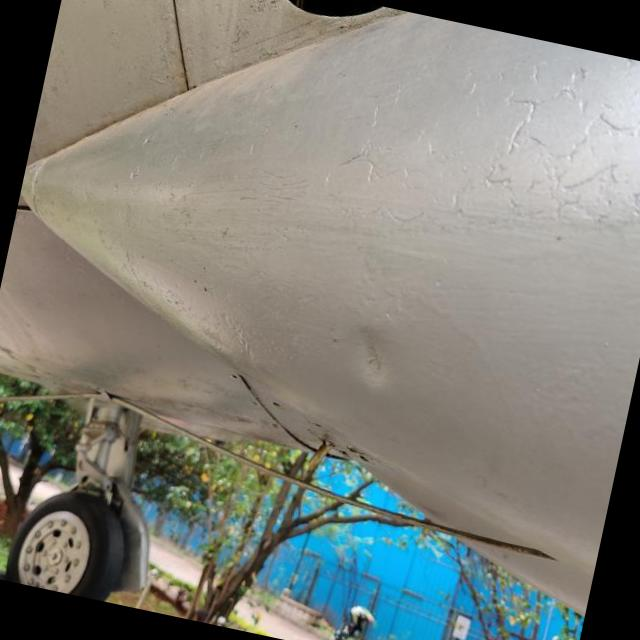Dent: (325, 306, 419, 404)
